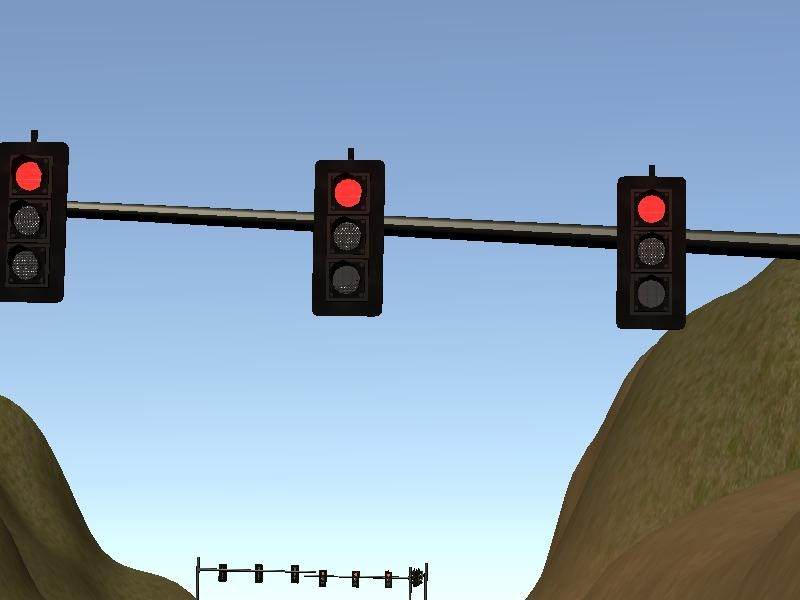RED: (311, 159, 384, 317), (614, 175, 685, 332), (1, 142, 69, 304)
